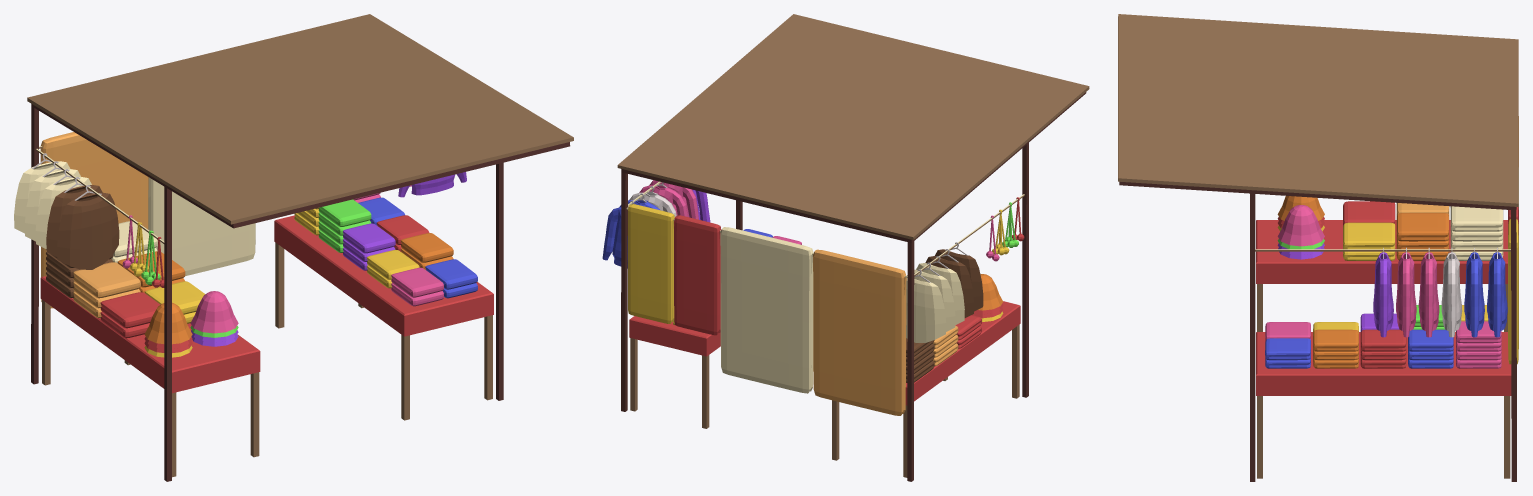
Rendered from PuestosRopa01.fbx.
The picture shows the model from 3 angles, left to right: view 1: azimuth 30°, elevation 25°; view 2: azimuth 150°, elevation 25°; view 3: azimuth 270°, elevation 25°; orthographic projection. The views are drawn at different scales.
Visible parts, largest first — view 1: PuestosRopa; view 2: PuestosRopa; view 3: PuestosRopa.
Part boxes in pixels (box(x1,y1,x2,y2)): PuestosRopa: box(14, 14, 573, 481); PuestosRopa: box(602, 14, 1089, 481); PuestosRopa: box(1118, 14, 1518, 481).
Size of the model in its own units: 359 by 269 by 320.
